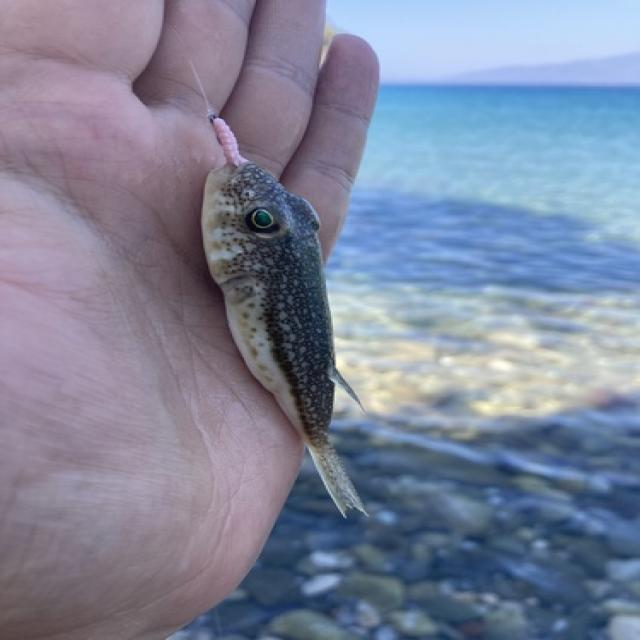Balik: (202, 159, 365, 515)
